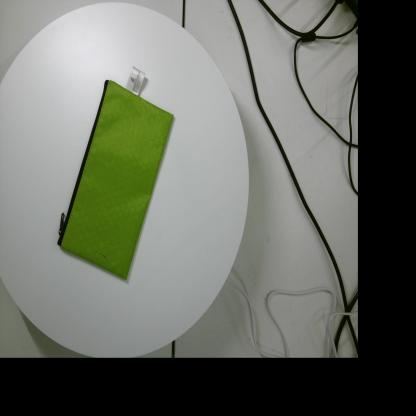Stationery: (57, 66, 174, 280)
